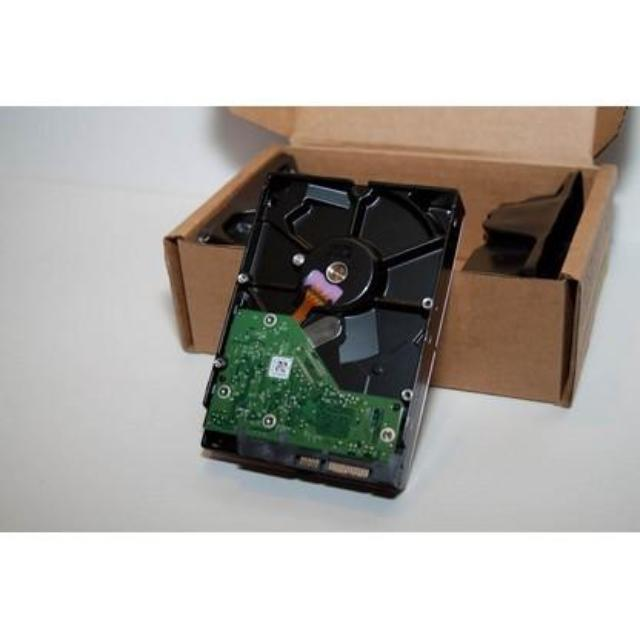DISK: (190, 170, 465, 502)
